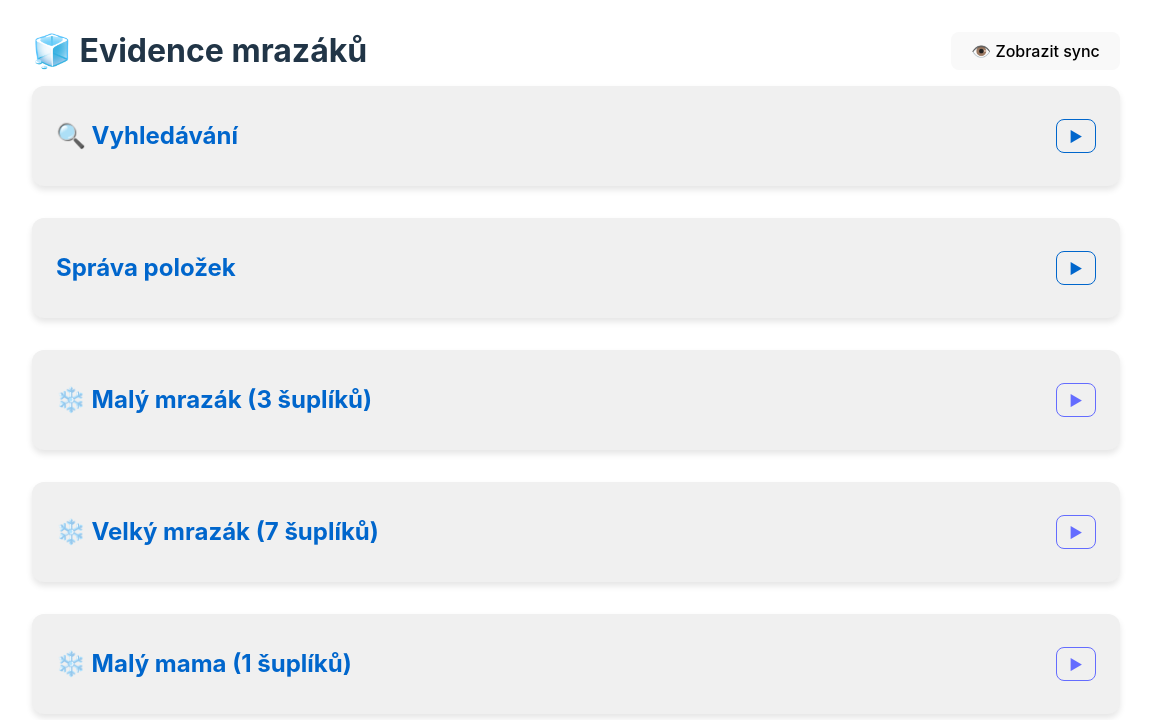
it: Správa položek - Základní chování › měla by přidat novou šablonu
This screenshot has width=1152, height=720.
// Otevřít správu položek
Click the heading "Správa položek" at (146, 268), box [56,250,236,286]
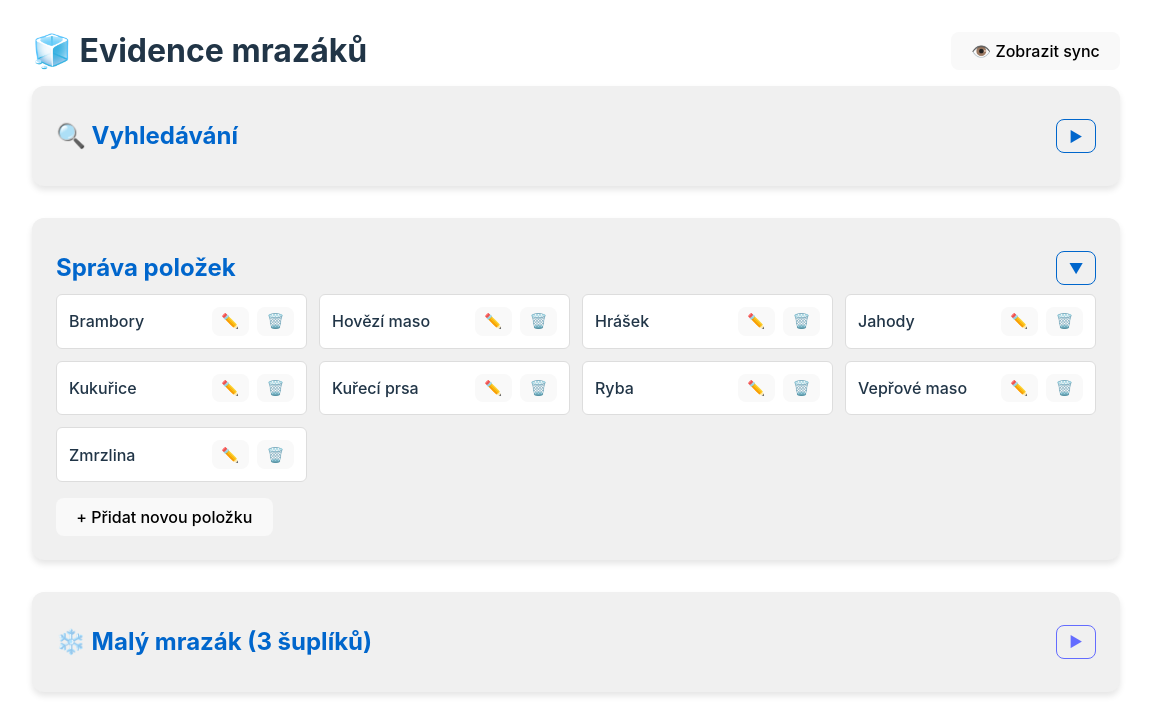
// Kliknout na "Přidat novou položku"
Click the button "+ Přidat novou položku" at (164, 517), box [56,498,272,536]
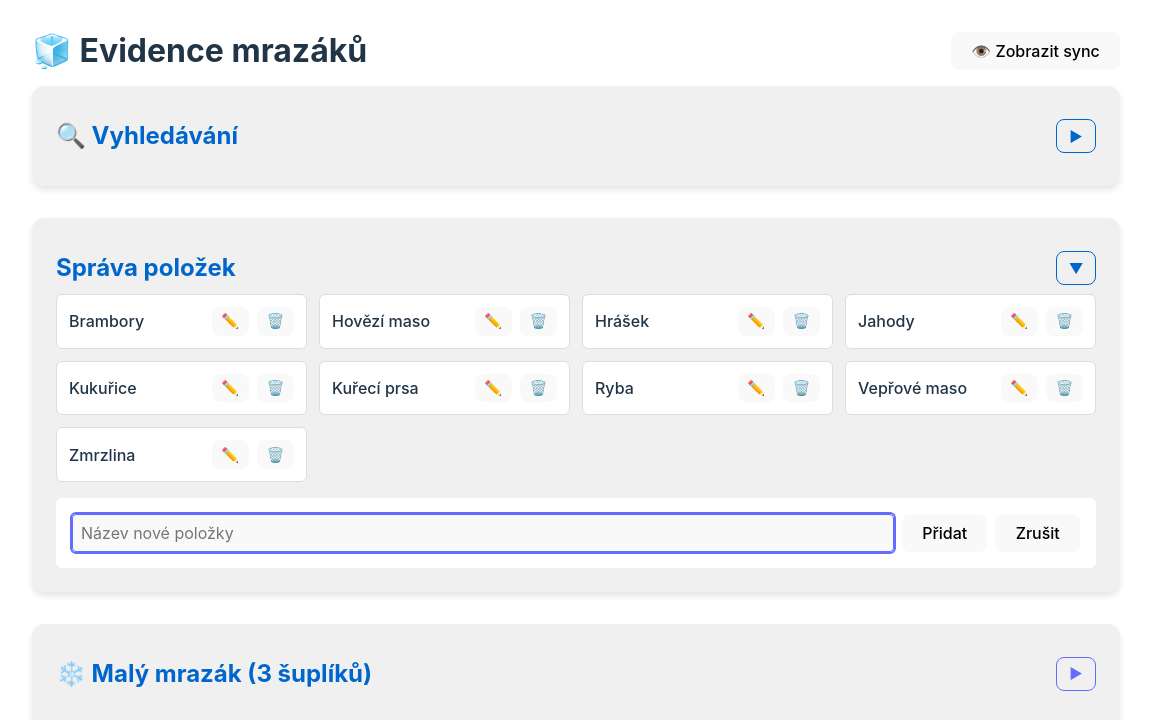
// Vyplnit název
Type "Nová testovací položka" into the field with placeholder "Název nové položky" at (483, 533), box [72,514,894,552]
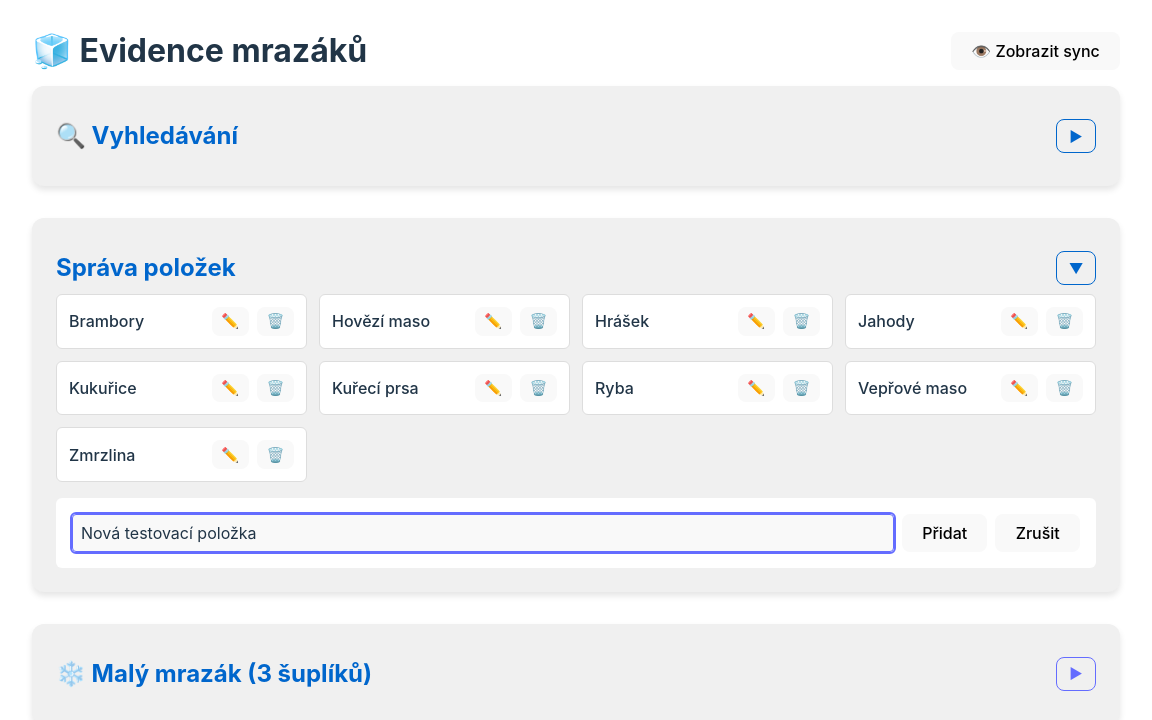
// Kliknout na Přidat
Click the button "Přidat" at (945, 533), box [902,514,988,552]
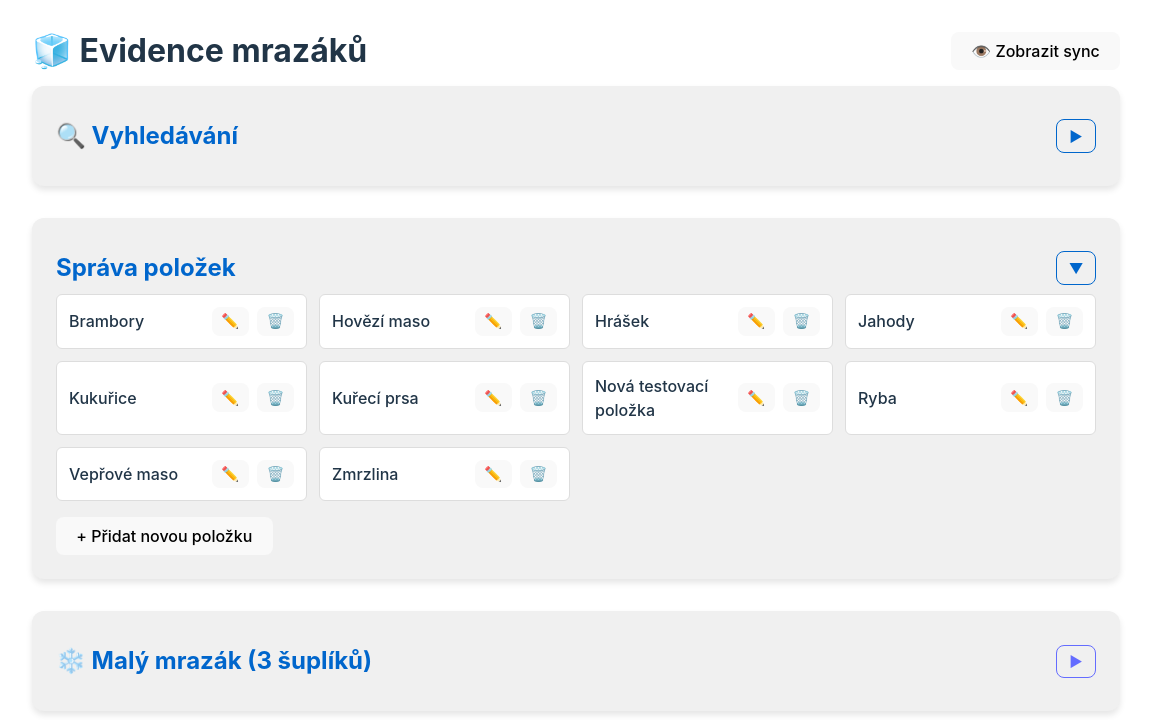
Check: the text "Nová testovací položka" is shown, box [595,376,708,420]
